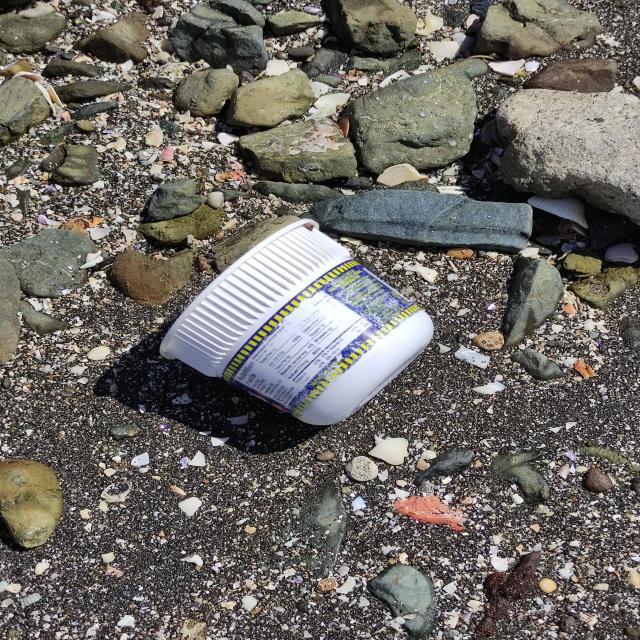litter: (160, 215, 437, 426)
